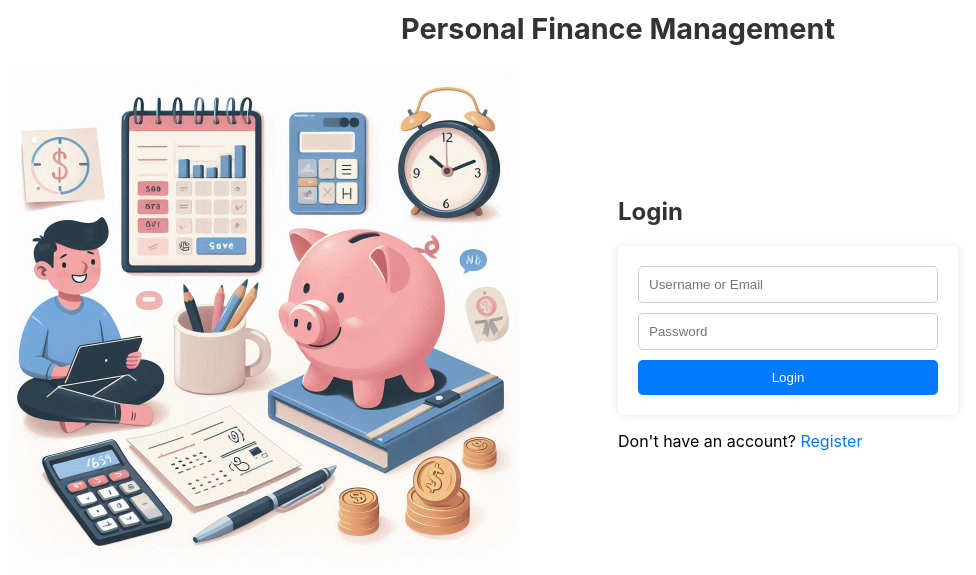
Scenario: login error
Type "wronguser" into the field with placeholder "Username or Email".
click(788, 285); type("wronguser")  # box [638,266,938,303]
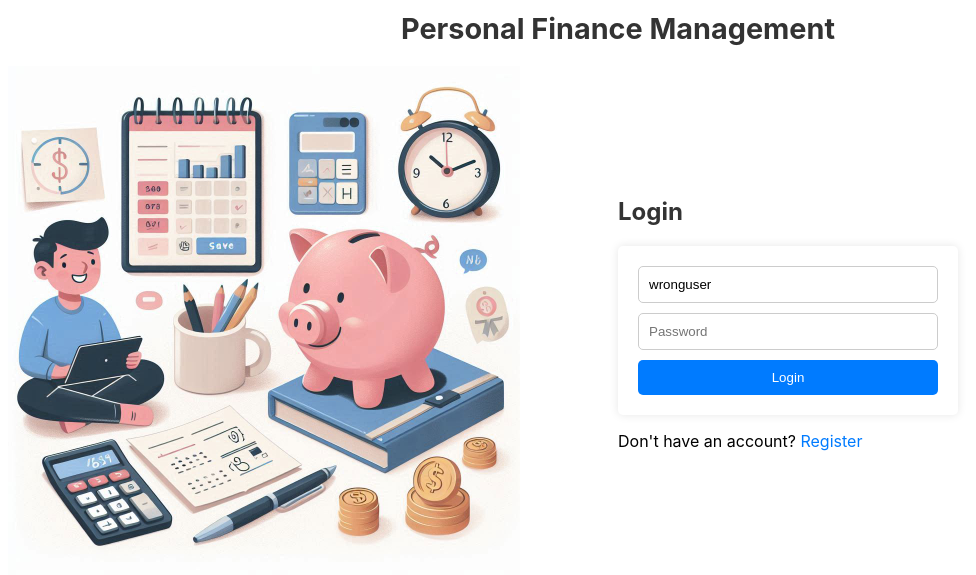
Type "wrongpassword" into the password field with placeholder "Password".
click(788, 332); type("wrongpassword")  # box [638,313,938,350]
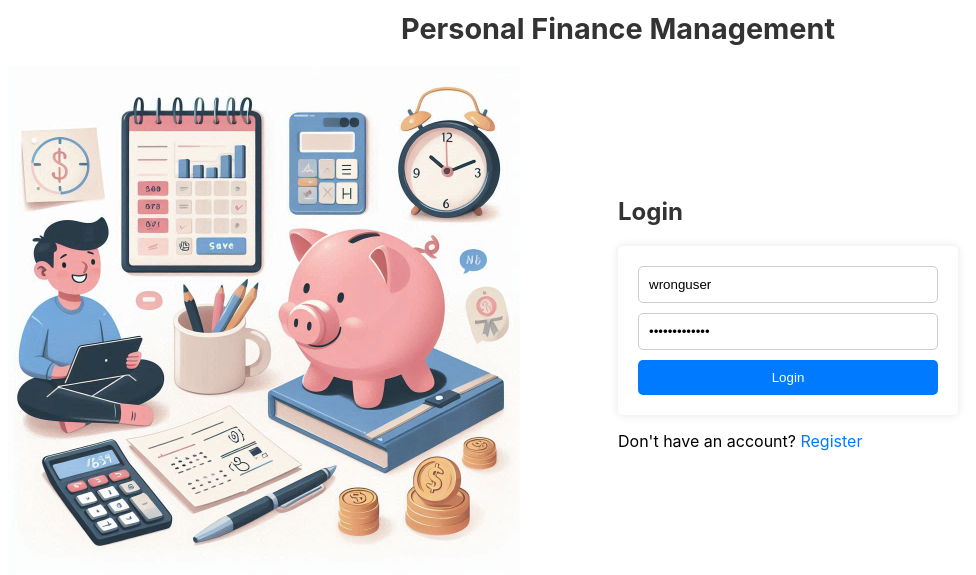
Click the button "Login".
click(788, 378)  # box [638,360,938,395]
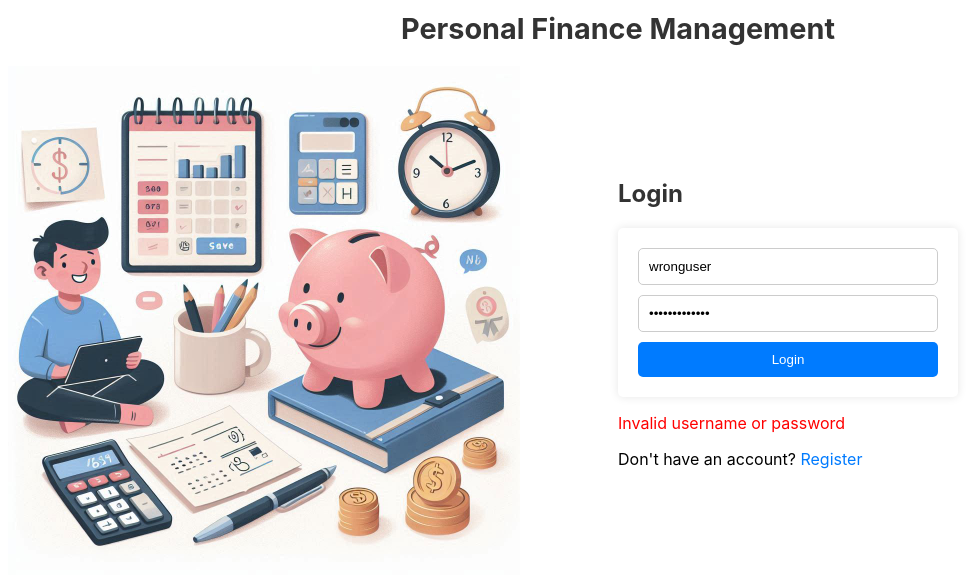
Result: the text "Invalid username or password" is shown at [618,413,845,433]
